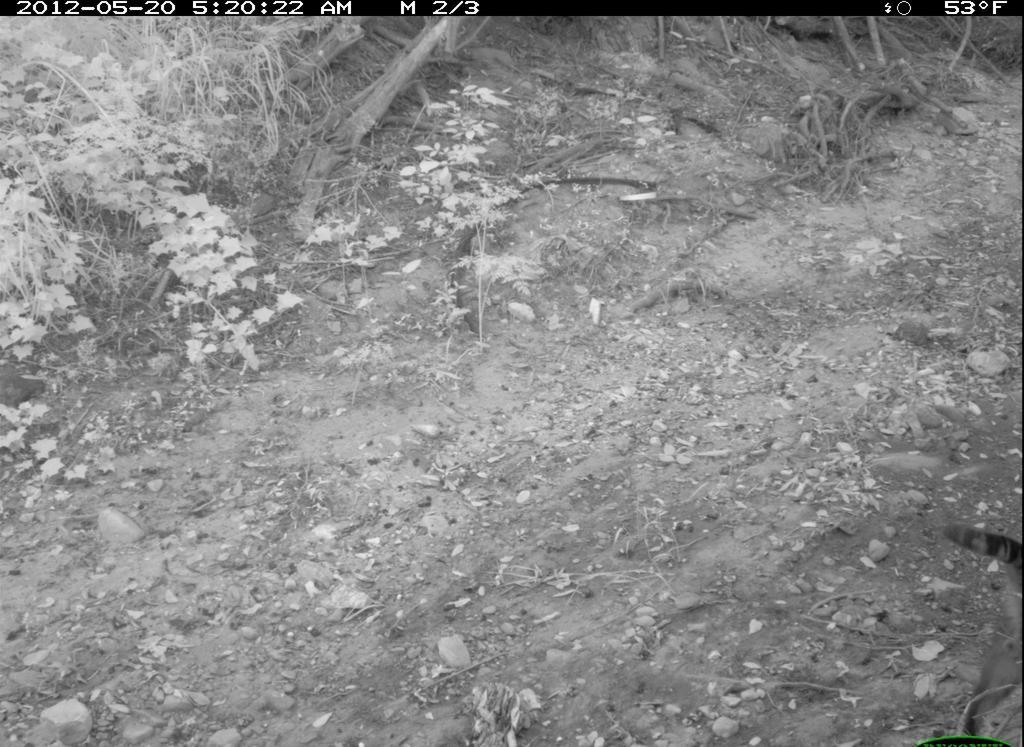cat: (917, 501, 1023, 619)
